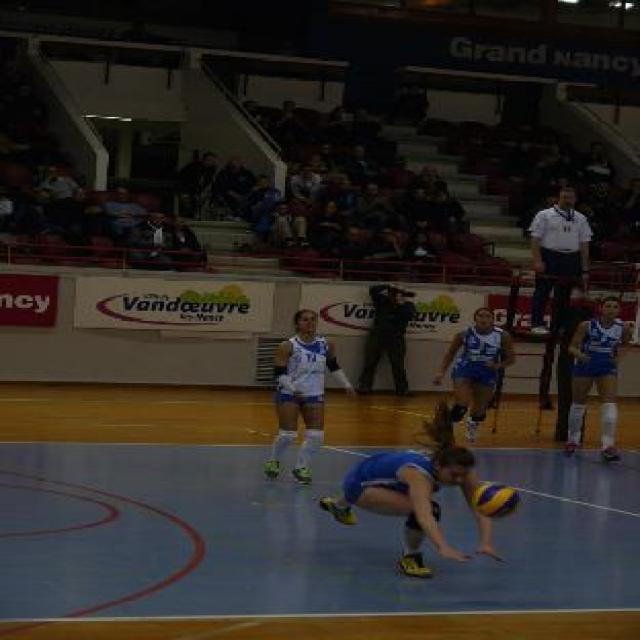volleyball: (472, 482, 520, 519)
